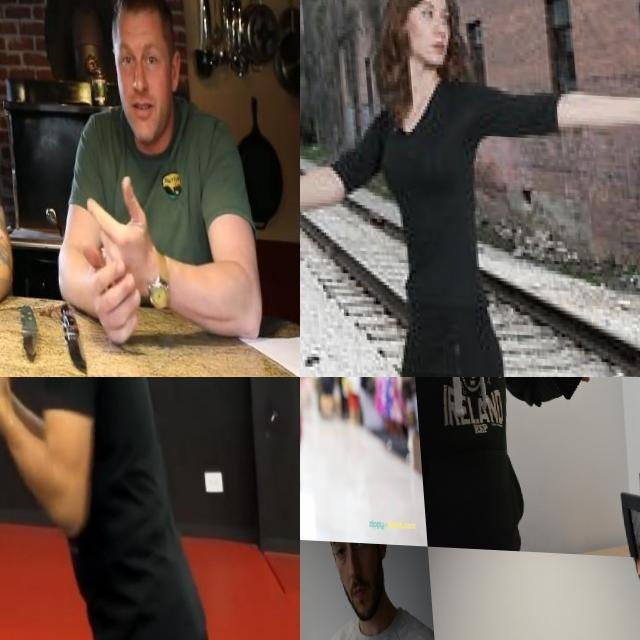-: (0, 204, 46, 287), (0, 589, 50, 640)
gun-knife-thesis - v11 Yolov5 augmented: (300, 177, 347, 267)
